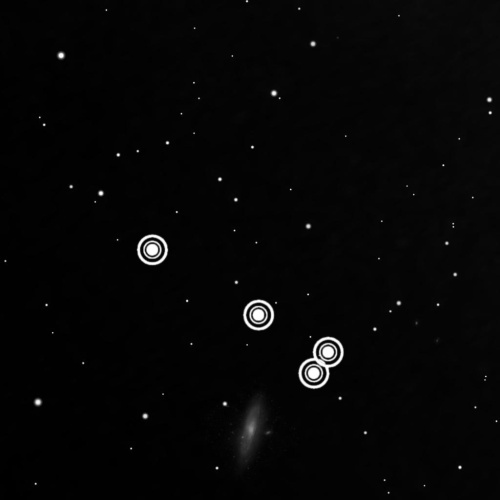sagitta: (125, 227, 349, 394)
